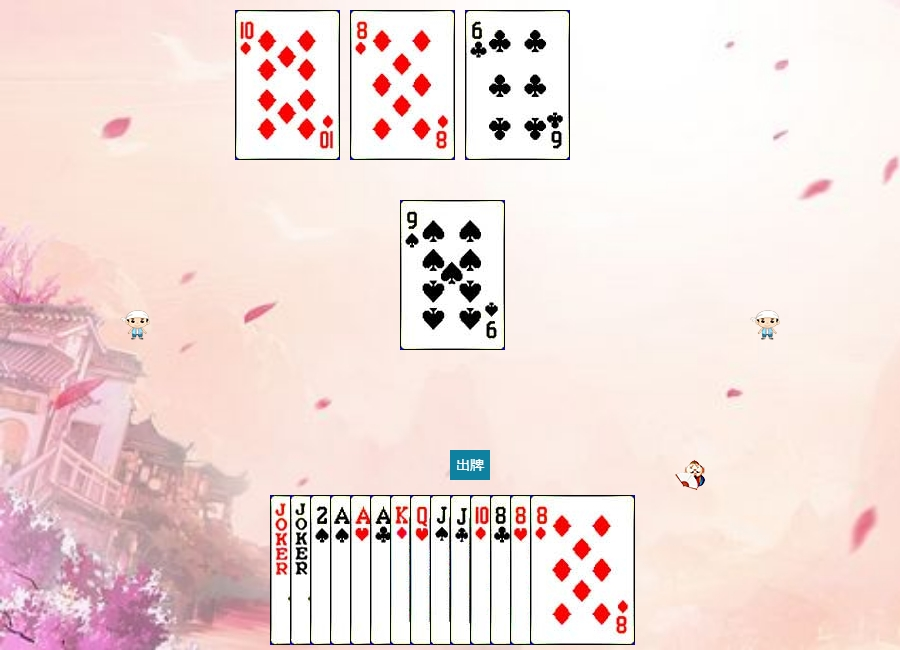10~1: (235, 10, 340, 160), (470, 495, 575, 645)
11~2: (450, 495, 555, 645)
11~4: (430, 495, 535, 645)
12~3: (410, 495, 515, 645)
13~1: (390, 495, 495, 645)
14~2: (370, 495, 475, 645)
14~3: (350, 495, 455, 645)
14~4: (330, 495, 435, 645)
15~4: (310, 495, 415, 645)
17~3: (290, 495, 395, 645)
18~4: (270, 495, 375, 645)
6~2: (465, 10, 570, 160)
8~1: (350, 10, 455, 160), (530, 495, 635, 645)
8~2: (490, 495, 595, 645)
8~3: (510, 495, 615, 645)
9~4: (400, 200, 505, 350)
